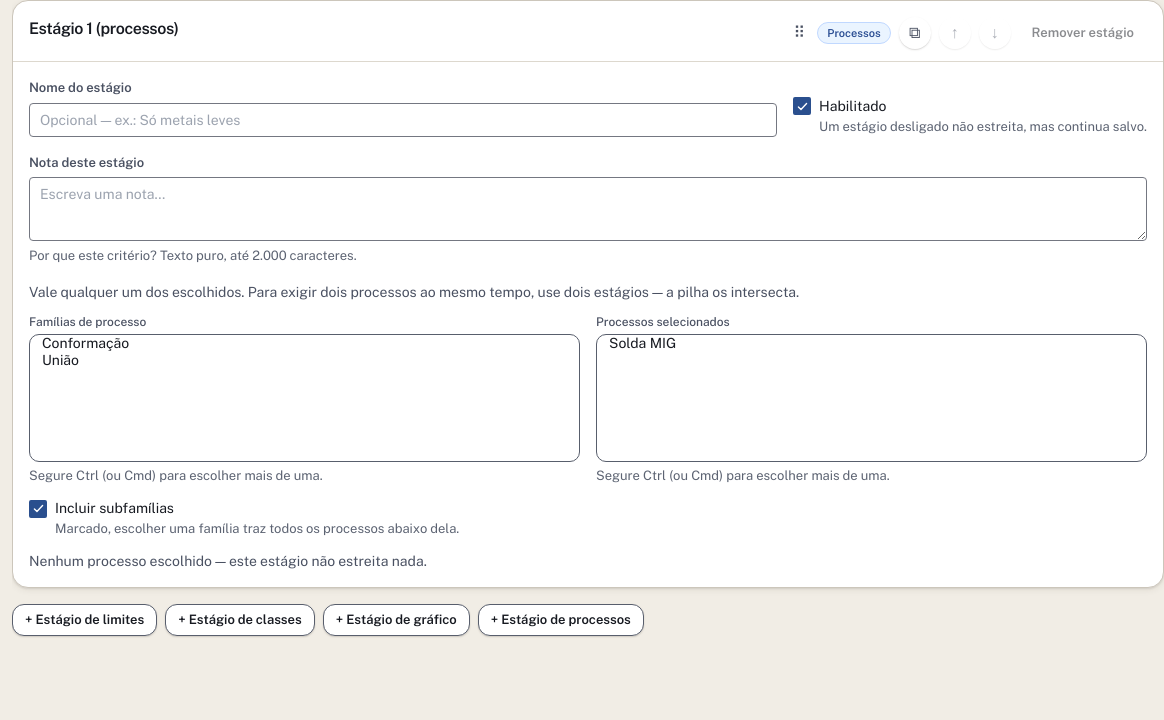
Scenario: StageList with a process stage › says so when nothing is chosen, and warns about absence once something is
Check: the text "Nenhum processo escolhido — este estágio não estreita nada." is shown, box [29, 553, 427, 569]
Step 1. Select "Solda MIG" in the dropdown labelled "Processos selecionados" → (872, 398), box [596, 334, 1147, 462]
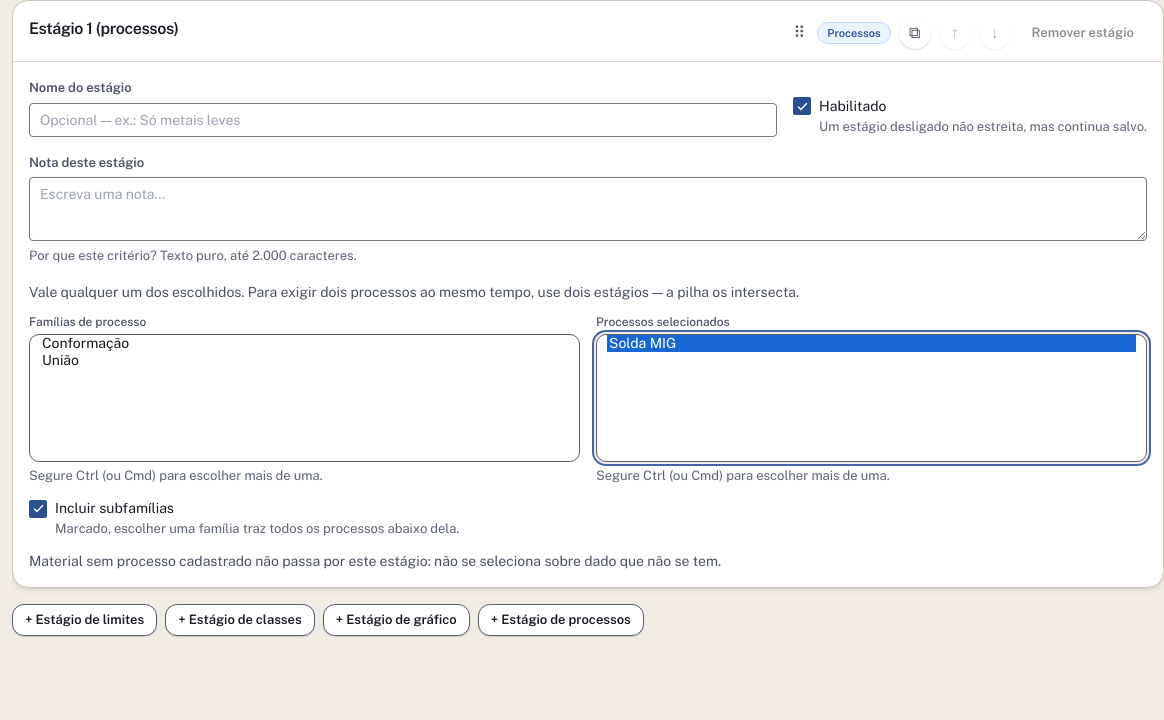
Check: the text "Nenhum processo escolhido — este estágio não estreita nada." is gone
Check: the text "Material sem processo cadastrado não passa por este estágio: não se seleciona sobre dado que não se tem." is shown, box [29, 553, 721, 569]
